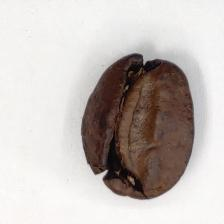NG: (116, 52, 160, 196)
